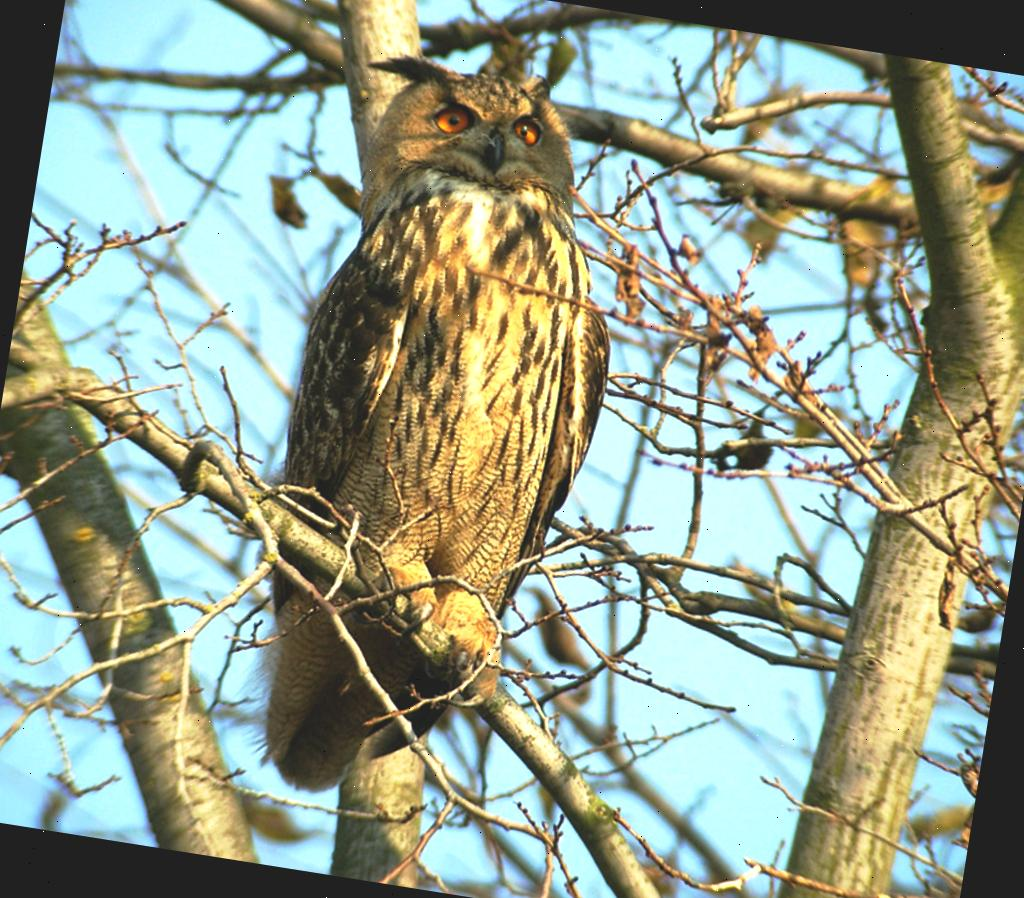Owl: (230, 39, 656, 830)
